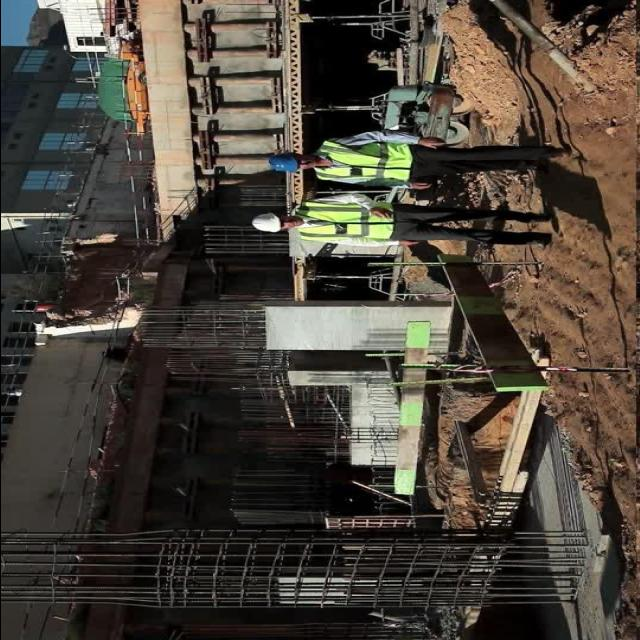helmet: (262, 150, 302, 174), (248, 206, 282, 234)
jacket: (314, 130, 418, 186), (294, 193, 394, 246)
